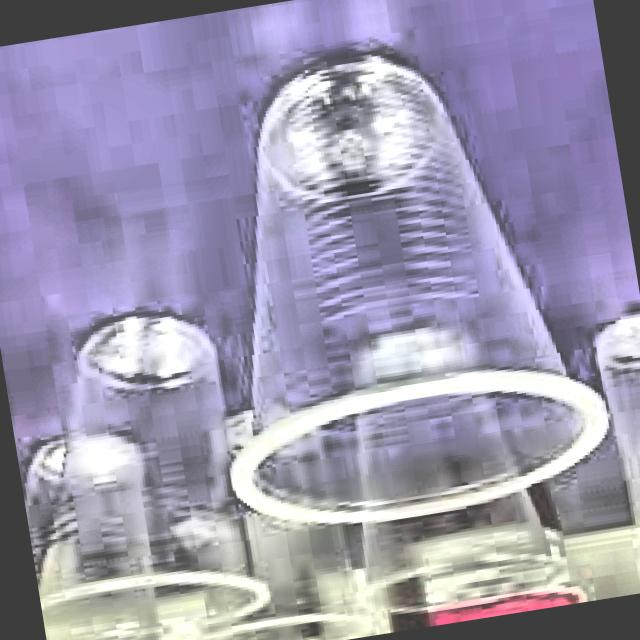plastic cup: (159, 32, 611, 541), (4, 311, 271, 640), (588, 339, 640, 562)
